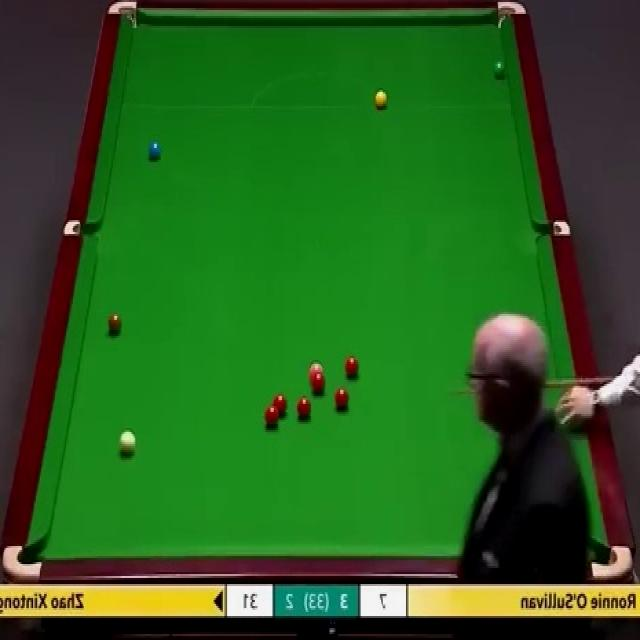pocket: (2, 542, 44, 582), (590, 543, 633, 582), (108, 0, 140, 32), (493, 0, 528, 29), (63, 218, 100, 237), (536, 218, 571, 238)
